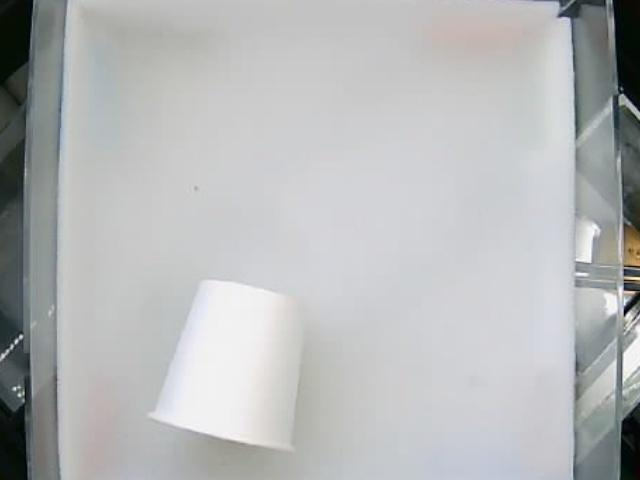Cup: (144, 279, 304, 450)
